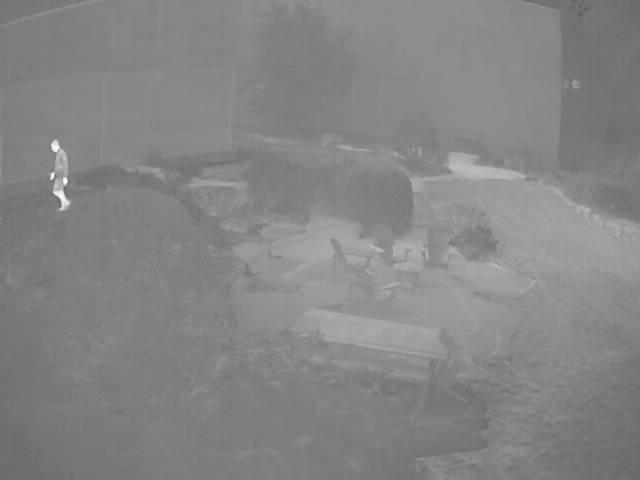person: (49, 138, 69, 212)
